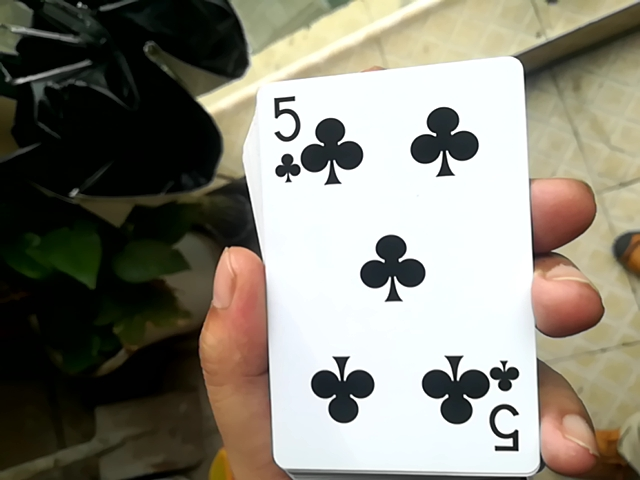mh 5: (238, 66, 549, 473)
